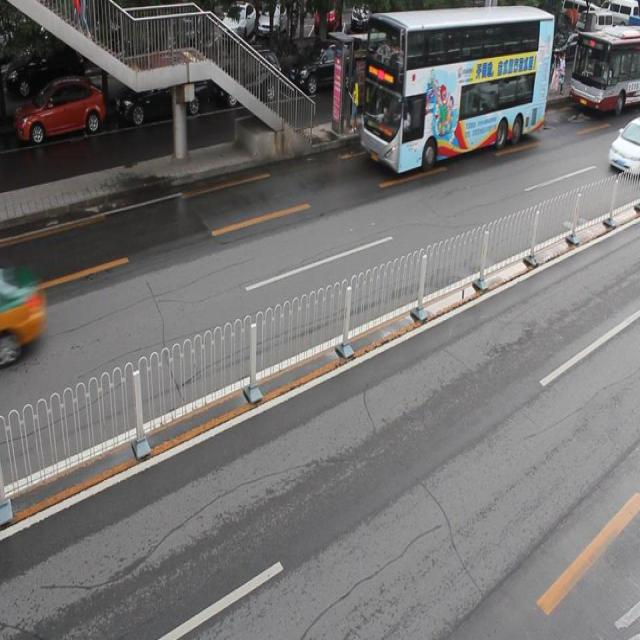car: (15, 75, 106, 143), (118, 60, 207, 121), (289, 37, 360, 91), (221, 45, 280, 103), (606, 117, 640, 177)
van: (361, 1, 552, 174), (567, 29, 640, 113)
